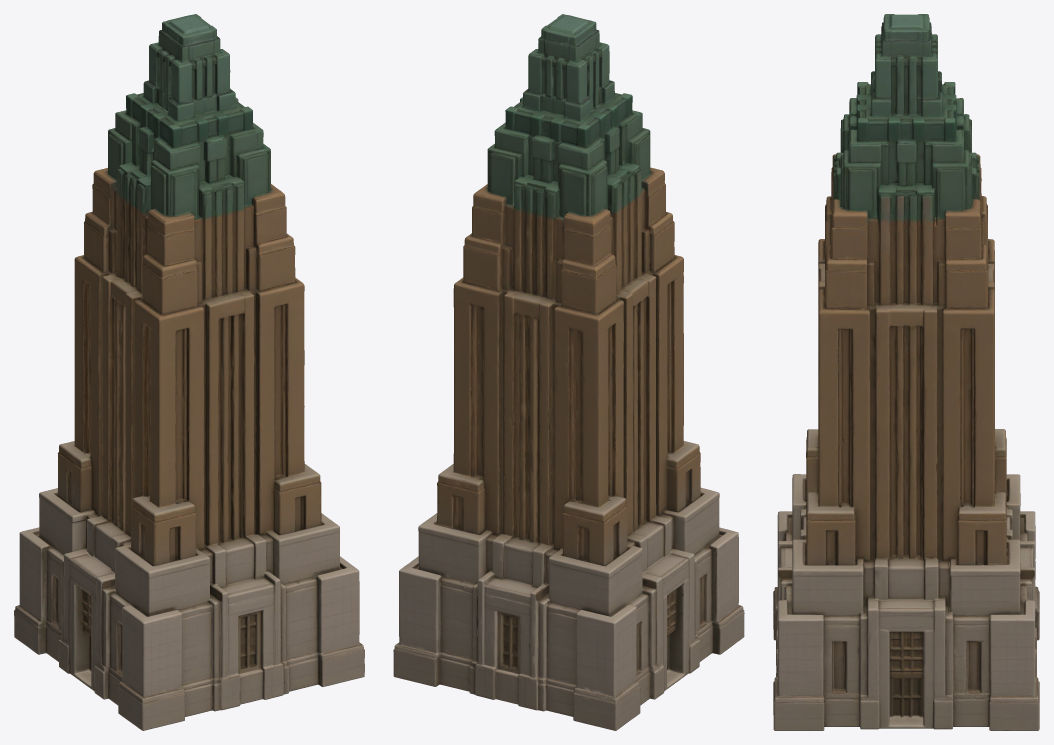
The model's file is decoTower.glb.
3 renders of one model, left to right at view 1: azimuth 30°, elevation 25°; view 2: azimuth 150°, elevation 25°; view 3: azimuth 270°, elevation 25°, orthographic. The views are drawn at different scales.
Visible parts, largest first — view 1: tripo_node_6ecba9de-9089-4617-b769-1df125f47937; view 2: tripo_node_6ecba9de-9089-4617-b769-1df125f47937; view 3: tripo_node_6ecba9de-9089-4617-b769-1df125f47937.
Part boxes in pixels (bbox=[...]): tripo_node_6ecba9de-9089-4617-b769-1df125f47937: bbox=[14, 14, 364, 730]; tripo_node_6ecba9de-9089-4617-b769-1df125f47937: bbox=[393, 14, 744, 730]; tripo_node_6ecba9de-9089-4617-b769-1df125f47937: bbox=[773, 14, 1039, 730].
Bounding box in the file's own units: 0.3687 × 1 × 0.3684.
1 material, 1 textured.
